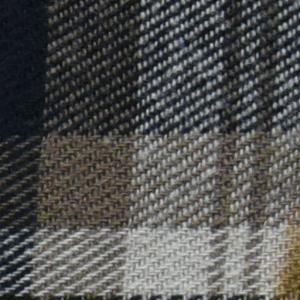Oil Stain: (267, 221, 300, 300)
